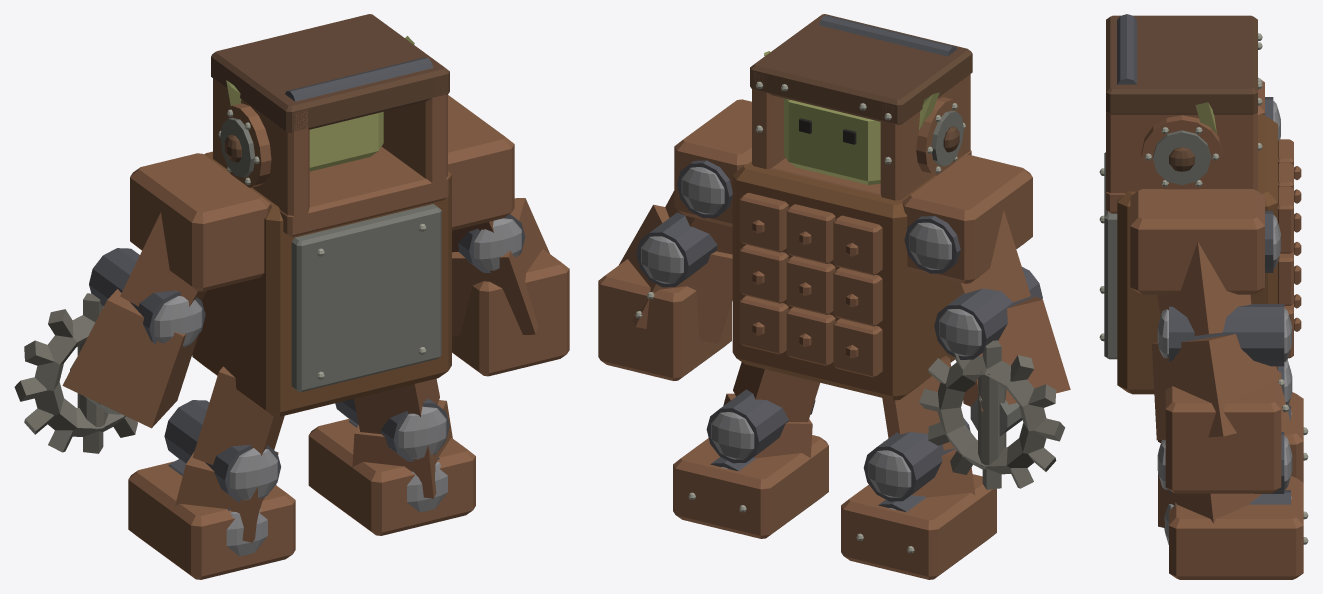
File: host_24.glb
3 renders of one model, left to right at view 1: azimuth 30°, elevation 25°; view 2: azimuth 150°, elevation 25°; view 3: azimuth 270°, elevation 25°, orthographic. The views are drawn at different scales.
Parts seen in each view (by area): view 1: V6 source24 fitted rear iron chassis inspection plate, Mutant actual wood chest chassis, V6 source24 broad contacting copper cage roof, Mutant massive hinged shoulder armor, Construct grounded shoe, Construct grounded shoe.001, Mutant massive forearm gauntlet, Mutant actual heavy iron fist, V6 source24 contacting copper pilot window sill, Mutant massive hinged shoulder armor.001, V6 source24 deep riveted copper pilot cage side, Mutant massive forearm gauntlet.001 (+20 smaller); view 2: Mutant actual wood chest chassis, V6 source24 broad contacting copper cage roof, Construct grounded shoe.001, Construct grounded shoe, Mutant actual heavy iron fist, Mutant massive hinged shoulder armor, Observed face, V6 mutant source physically mounted toothed fist wheel hollo, Mutant massive hinged shoulder armor.001, Mutant massive forearm gauntlet.001, Mutant massive forearm gauntlet, V6 source24 deep riveted copper pilot cage side (+35 smaller); view 3: V6 source24 broad contacting copper cage roof, Mutant massive hinged shoulder armor.001, Mutant actual heavy iron fist, Construct grounded shoe.001, Mutant actual wood chest chassis, Mutant massive forearm gauntlet.001, V6 source24 deep riveted copper pilot cage side.001, V6 Mutant actual transverse axle bearing forearm_R, Mutant actual boxlike upper arm.001, V6 source24 circular copper cage side bearing housing.001, V6 source24 fitted rear iron chassis inspection plate, Mutant hinged lower iron leg.001 (+18 smaller).
Boxes of the visible parts, bbox=[...] form: V6 source24 fitted rear iron chassis inspection plate: bbox=[291, 204, 441, 391]; Mutant actual wood chest chassis: bbox=[192, 151, 451, 416]; V6 source24 broad contacting copper cage roof: bbox=[211, 14, 449, 132]; Mutant massive hinged shoulder armor: bbox=[130, 153, 270, 291]; Construct grounded shoe: bbox=[128, 461, 295, 579]; Construct grounded shoe.001: bbox=[308, 419, 475, 535]; Mutant massive forearm gauntlet: bbox=[62, 289, 205, 428]; Mutant actual heavy iron fist: bbox=[452, 249, 569, 376]; V6 source24 contacting copper pilot window sill: bbox=[279, 146, 448, 236]; Mutant massive hinged shoulder armor.001: bbox=[448, 95, 514, 230]; V6 source24 deep riveted copper pilot cage side: bbox=[213, 78, 309, 231]; Mutant massive forearm gauntlet.001: bbox=[452, 198, 549, 336]; Mutant actual wood chest chassis: bbox=[732, 155, 963, 400]; V6 source24 broad contacting copper cage roof: bbox=[750, 14, 972, 124]; Construct grounded shoe.001: bbox=[673, 435, 828, 538]; Construct grounded shoe: bbox=[841, 474, 996, 579]; Mutant actual heavy iron fist: bbox=[598, 259, 731, 380]; Mutant massive hinged shoulder armor: bbox=[902, 155, 1032, 283]; Observed face: bbox=[784, 98, 880, 184]; V6 mutant source physically mounted toothed fist wheel hollo: bbox=[938, 356, 1046, 474]; Mutant massive hinged shoulder armor.001: bbox=[674, 99, 751, 226]; Mutant massive forearm gauntlet.001: bbox=[619, 204, 732, 343]; Mutant massive forearm gauntlet: bbox=[963, 296, 1070, 411]; V6 source24 deep riveted copper pilot cage side: bbox=[880, 74, 970, 200]; V6 source24 broad contacting copper cage roof: bbox=[1106, 15, 1257, 114]; Mutant massive hinged shoulder armor.001: bbox=[1130, 189, 1264, 294]; Mutant actual heavy iron fist: bbox=[1165, 370, 1281, 493]; Construct grounded shoe.001: bbox=[1169, 476, 1303, 579]; Mutant actual wood chest chassis: bbox=[1117, 115, 1277, 394]; Mutant massive forearm gauntlet.001: bbox=[1152, 334, 1289, 440]; V6 source24 deep riveted copper pilot cage side.001: bbox=[1106, 112, 1257, 193]; V6 Mutant actual transverse axle bearing forearm_R: bbox=[1169, 304, 1284, 366]; Mutant actual boxlike upper arm.001: bbox=[1157, 241, 1251, 335]; V6 source24 circular copper cage side bearing housing.001: bbox=[1141, 115, 1222, 189]; V6 source24 fitted rear iron chassis inspection plate: bbox=[1104, 152, 1117, 359]; Mutant hinged lower iron leg.001: bbox=[1158, 472, 1261, 527].
Bounding box in the file's own units: 1.75 × 1.62 × 0.651.
